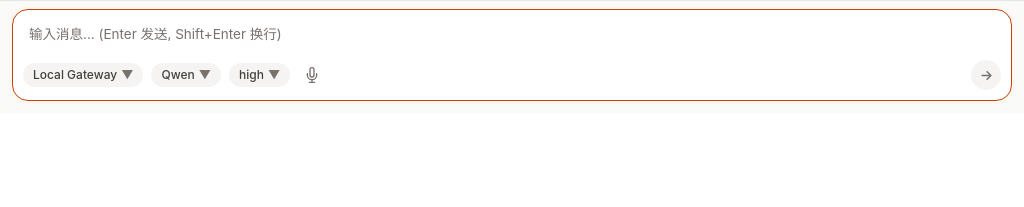
Scenario: MessageInput › 按当前 Provider 的模型能力显示思考等级
Expected: the dropdown named "Provider" shows "Local Gateway", [23, 63, 144, 87]
Expected: the dropdown named "模型" shows "Qwen", [152, 63, 221, 87]
# 打开 reasoning 菜单，检查选项
What coordinates should you click on to do the following:
click the dropdown named "思考"
I would click on:
 (260, 75)
Its box is [229, 63, 290, 87].
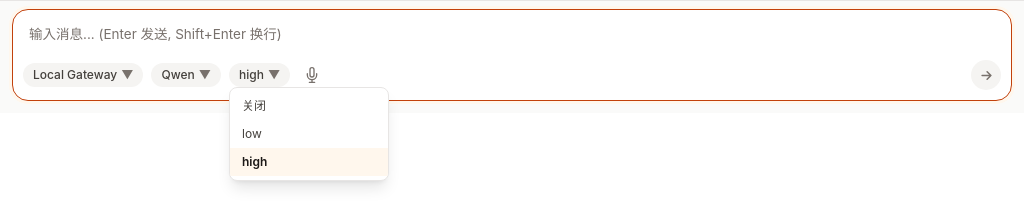
Expected: the option "low" is shown, [242, 126, 262, 141]
Expected: the option "high" is shown, [230, 148, 388, 176]
